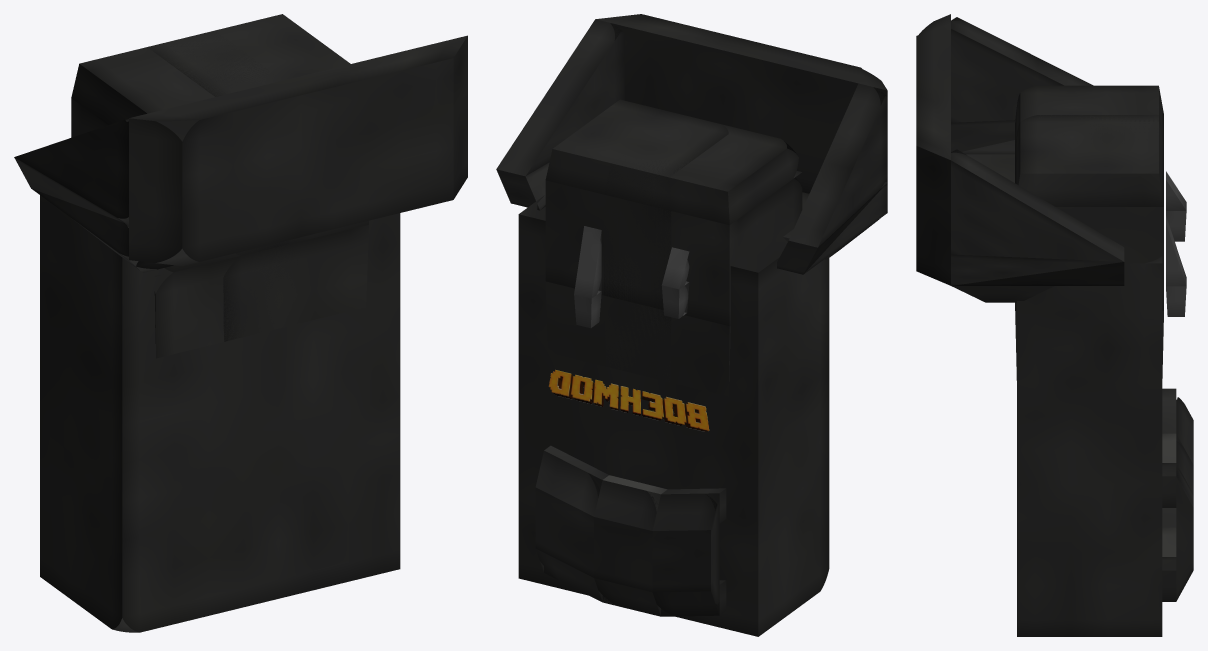
The model's file is hoodie9.obj.
3 views of the same model, side by side, from view 1: azimuth 30°, elevation 25°; view 2: azimuth 150°, elevation 25°; view 3: azimuth 270°, elevation 25° (orthographic). The views are drawn at different scales.
Parts seen in each view (by area): view 1: bodyModel0, bodyModel17, leftArmModel1, leftArmModel2, rightArmModel2, rightArmModel1, bodyModel16, bodyModel19, rightArmModel0; view 2: bodyModel0, bodyModel17, rightArmModel0, leftArmModel2, leftArmModel0, rightArmModel2, bodyModel20, bodyModel16, rightArmModel1, bodyModel3, leftArmModel1, bodyModel4 (+10 smaller); view 3: bodyModel0, leftArmModel2, bodyModel20, bodyModel17, bodyModel16, bodyModel21, rightArmModel2, leftArmModel0, bodyModel19, bodyModel4, bodyModel18, bodyModel13 (+10 smaller).
Part boxes in pixels (box(x1,y1,x2,y2)): bodyModel0: box(40, 195, 400, 632); bodyModel17: box(129, 35, 467, 266); leftArmModel1: box(223, 225, 368, 341); leftArmModel2: box(147, 14, 350, 96); rightArmModel2: box(71, 31, 277, 124); rightArmModel1: box(154, 243, 298, 358); bodyModel16: box(14, 119, 162, 224); bodyModel19: box(14, 157, 128, 259); rightArmModel0: box(71, 98, 293, 276); bodyModel0: box(518, 195, 829, 636); bodyModel17: box(596, 14, 887, 212); rightArmModel0: box(604, 177, 802, 326); leftArmModel2: box(545, 99, 728, 210); leftArmModel0: box(545, 180, 671, 309); rightArmModel2: box(605, 124, 801, 225); bodyModel20: box(496, 19, 624, 176); bodyModel16: box(789, 83, 887, 247); rightArmModel1: box(604, 295, 730, 396); bodyModel3: box(652, 493, 719, 616); leftArmModel1: box(545, 281, 671, 382); bodyModel4: box(535, 450, 602, 601); bodyModel0: box(1017, 256, 1162, 636); leftArmModel2: box(1015, 115, 1163, 206); bodyModel20: box(951, 149, 1124, 261); bodyModel17: box(916, 14, 950, 285); bodyModel16: box(951, 17, 1093, 122); bodyModel21: box(951, 254, 1124, 285); rightArmModel2: box(1015, 85, 1163, 151); leftArmModel0: box(1015, 207, 1163, 310); bodyModel19: box(951, 120, 1014, 154); bodyModel4: box(1176, 467, 1193, 601); bodyModel18: box(951, 154, 1054, 302); bodyModel13: box(1166, 216, 1186, 286).
Size of the model in its own units: 11 by 15.6 by 8.
